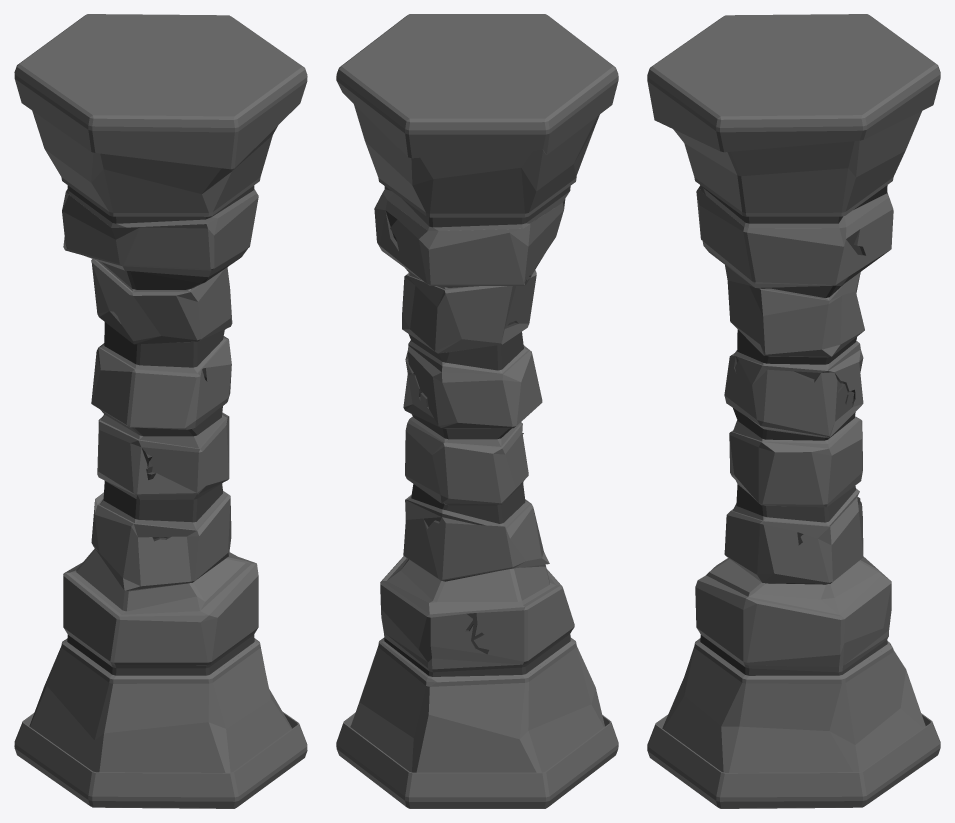
The model's file is Säule_004.fbx.
3 views of the same model, side by side, from view 1: azimuth 30°, elevation 25°; view 2: azimuth 150°, elevation 25°; view 3: azimuth 270°, elevation 25° (orthographic).
Parts seen in each view (by area): view 1: Säule_004; view 2: Säule_004; view 3: Säule_004.
Part boxes in pixels (x1=…): Säule_004: x1=14, y1=14, x2=307, y2=808; Säule_004: x1=336, y1=14, x2=618, y2=808; Säule_004: x1=647, y1=14, x2=940, y2=808.
Size of the model in its own units: 256 by 773 by 297.
